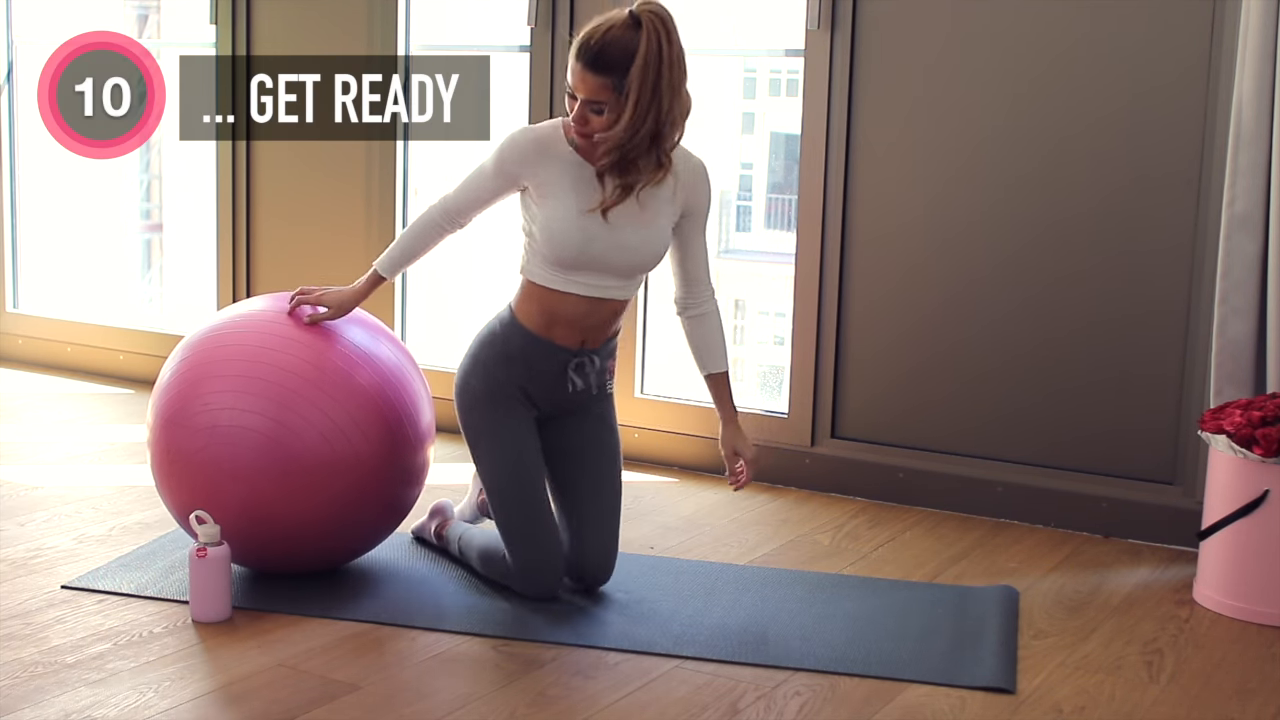yogaball: (145, 287, 434, 583)
